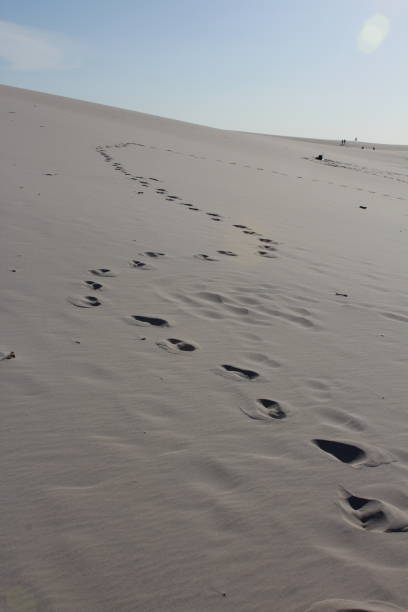human_footprint: (340, 488, 407, 533), (312, 438, 394, 466), (306, 599, 405, 611), (240, 398, 286, 421), (221, 364, 258, 380), (156, 338, 197, 352), (129, 315, 169, 326), (68, 296, 100, 307), (129, 259, 152, 269), (89, 268, 115, 276), (194, 253, 218, 261), (84, 280, 102, 289), (258, 249, 276, 257), (144, 251, 165, 257), (206, 212, 221, 220), (217, 250, 236, 256)
